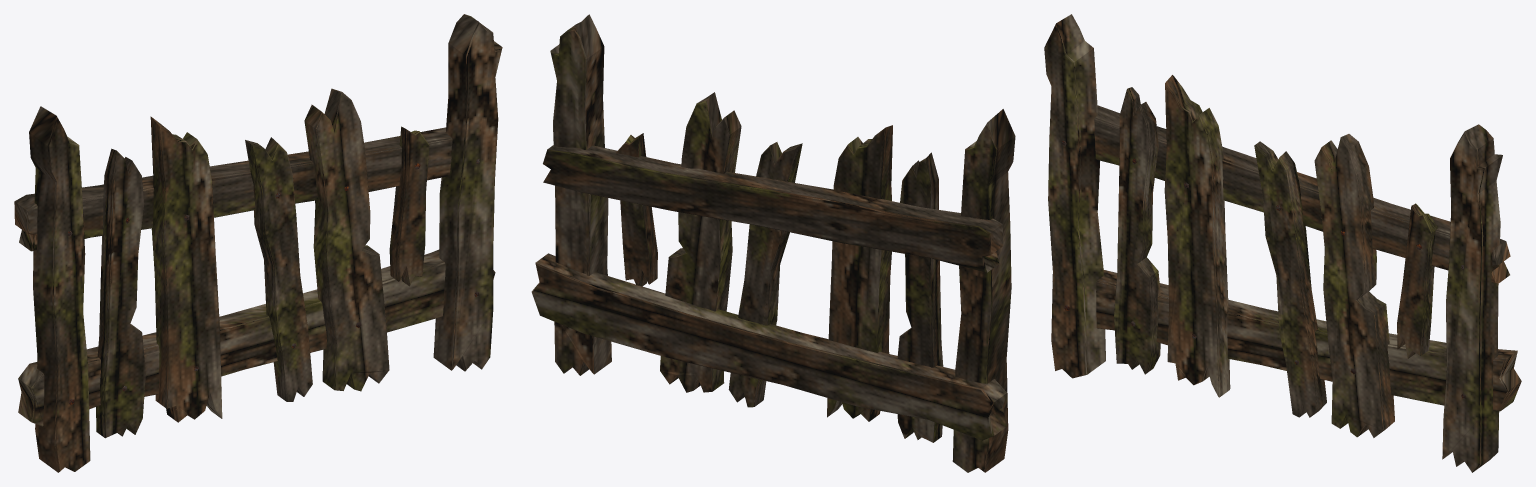
The model's file is Cerca-Quebrada.glb.
3 renders of one model, left to right at view 1: azimuth 30°, elevation 25°; view 2: azimuth 150°, elevation 25°; view 3: azimuth 330°, elevation 25°, orthographic. The views are drawn at different scales.
Visible parts, largest first — view 1: Cerca quebrada; view 2: Cerca quebrada; view 3: Cerca quebrada.
Boxes of the visible parts, left/top/right/bottom form: Cerca quebrada: left=14, top=14, right=502, bottom=472; Cerca quebrada: left=531, top=14, right=1015, bottom=472; Cerca quebrada: left=1044, top=14, right=1521, bottom=472.
Bounding box in the file's own units: 2.24 × 1.65 × 0.2644.
Materials: 2 (2 with a texture image).
